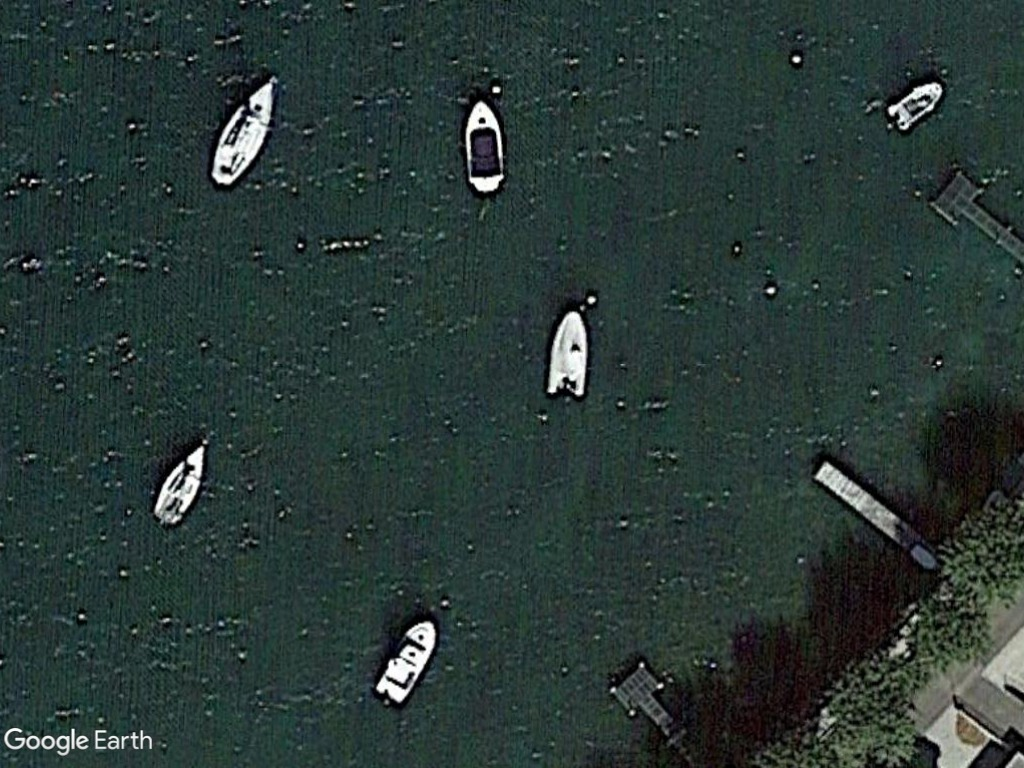boat: (207, 75, 279, 189), (372, 614, 438, 710), (150, 436, 209, 529), (457, 98, 509, 198), (543, 305, 590, 401), (882, 78, 945, 133)
